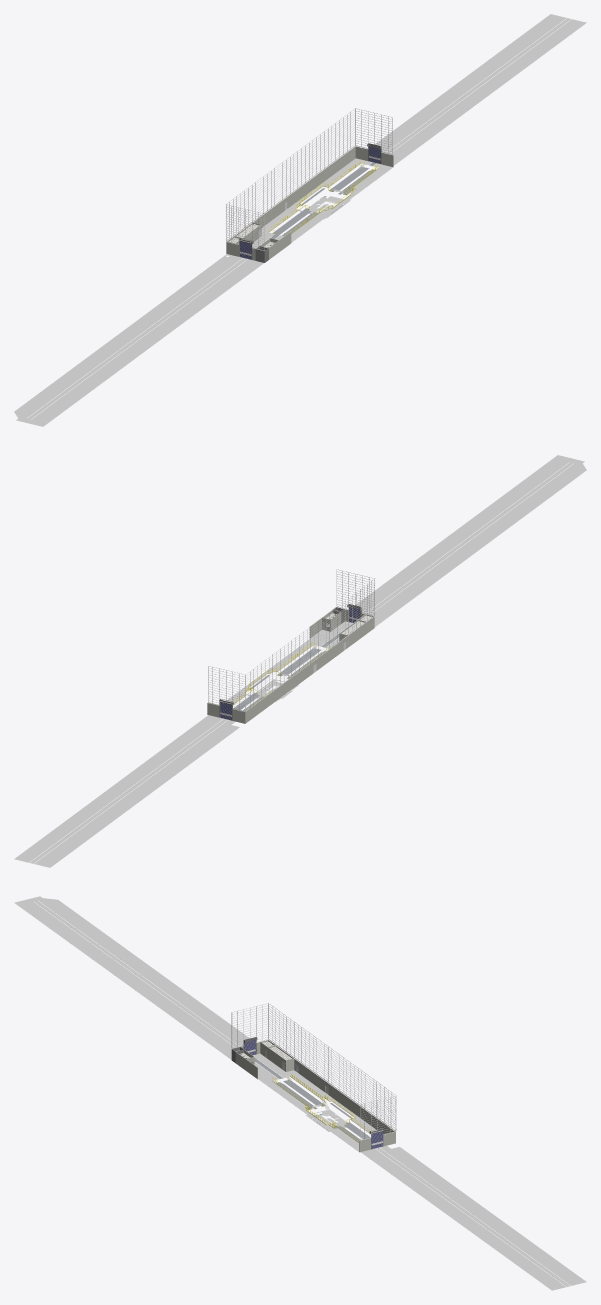
Rendered from pt-112-torno-foso-hq.glb.
3 renders of one model, top to bottom at view 1: azimuth 30°, elevation 25°; view 2: azimuth 210°, elevation 25°; view 3: azimuth 270°, elevation 25°, orthographic. The views are drawn at different scales.
Parts seen in each view (by area): view 1: 1uM32JQ$z6MvA0bQq4OkeC, 2U$0UbouX7bf9h9atOO8k9, 2JTEDtHPf9nBNc_ggtTy6L, 3sl4GI4p97Bea9iSMLqR4h, 3XFbPHLhX0rPWsGv4LgPpo, 1bBwK8JjvFqRH$O4NQQWuZ, 0zya_3nKzFERx9gInikTY1; view 2: 1uM32JQ$z6MvA0bQq4OkeC, 2U$0UbouX7bf9h9atOO8k9, 2JTEDtHPf9nBNc_ggtTy6L, 3sl4GI4p97Bea9iSMLqR4h, 1bBwK8JjvFqRH$O4NQQWuZ, 0zya_3nKzFERx9gInikTY1; view 3: 1uM32JQ$z6MvA0bQq4OkeC, 2U$0UbouX7bf9h9atOO8k9, 2JTEDtHPf9nBNc_ggtTy6L, 3sl4GI4p97Bea9iSMLqR4h, 3XFbPHLhX0rPWsGv4LgPpo, 1bBwK8JjvFqRH$O4NQQWuZ, 0zya_3nKzFERx9gInikTY1.
Part boxes in pixels (bbox=[...]): 1uM32JQ$z6MvA0bQq4OkeC: bbox=[14, 254, 263, 426]; 2U$0UbouX7bf9h9atOO8k9: bbox=[375, 14, 566, 152]; 2JTEDtHPf9nBNc_ggtTy6L: bbox=[390, 19, 586, 165]; 3sl4GI4p97Bea9iSMLqR4h: bbox=[253, 146, 355, 227]; 3XFbPHLhX0rPWsGv4LgPpo: bbox=[252, 158, 371, 248]; 1bBwK8JjvFqRH$O4NQQWuZ: bbox=[271, 163, 392, 245]; 0zya_3nKzFERx9gInikTY1: bbox=[385, 18, 570, 153]; 1uM32JQ$z6MvA0bQq4OkeC: bbox=[356, 455, 586, 626]; 2U$0UbouX7bf9h9atOO8k9: bbox=[34, 720, 239, 867]; 2JTEDtHPf9nBNc_ggtTy6L: bbox=[14, 715, 222, 862]; 3sl4GI4p97Bea9iSMLqR4h: bbox=[245, 636, 347, 723]; 1bBwK8JjvFqRH$O4NQQWuZ: bbox=[226, 621, 351, 704]; 0zya_3nKzFERx9gInikTY1: bbox=[30, 719, 227, 863]; 1uM32JQ$z6MvA0bQq4OkeC: bbox=[14, 896, 249, 1059]; 2U$0UbouX7bf9h9atOO8k9: bbox=[380, 1145, 586, 1285]; 2JTEDtHPf9nBNc_ggtTy6L: bbox=[361, 1148, 566, 1290]; 3sl4GI4p97Bea9iSMLqR4h: bbox=[294, 1059, 394, 1133]; 3XFbPHLhX0rPWsGv4LgPpo: bbox=[253, 1053, 376, 1134]; 1bBwK8JjvFqRH$O4NQQWuZ: bbox=[254, 1062, 358, 1151]; 0zya_3nKzFERx9gInikTY1: bbox=[375, 1147, 570, 1286].
Size of the model in its own units: 283 by 19.24 by 174.
